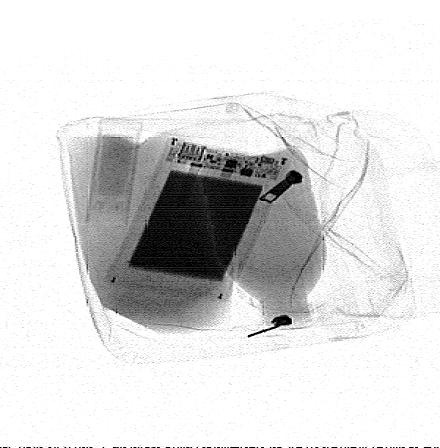Powerbank: (102, 136, 293, 301)
